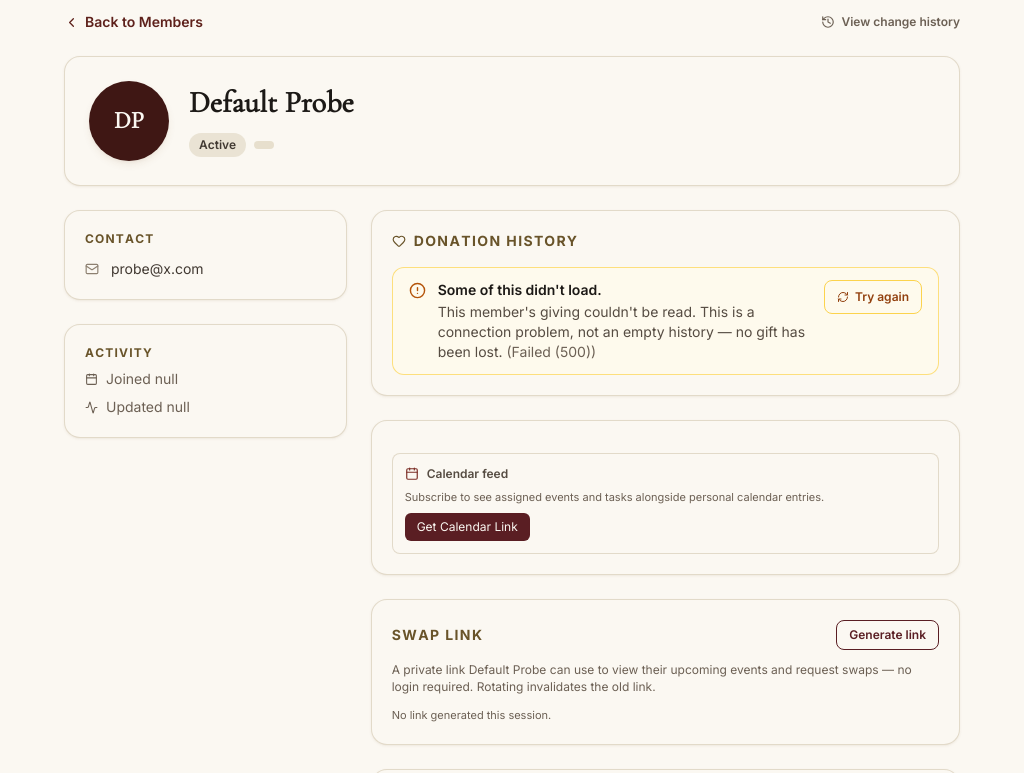
the donations read › recovers the gifts in place on retry
The width and height of the screenshot is (1024, 773).
Expected: the text "Some of this didn't load." is shown, left=438, top=281, right=602, bottom=298
Step 1. Click the button "Try again" → {"x": 873, "y": 297}, box left=824, top=280, right=922, bottom=314
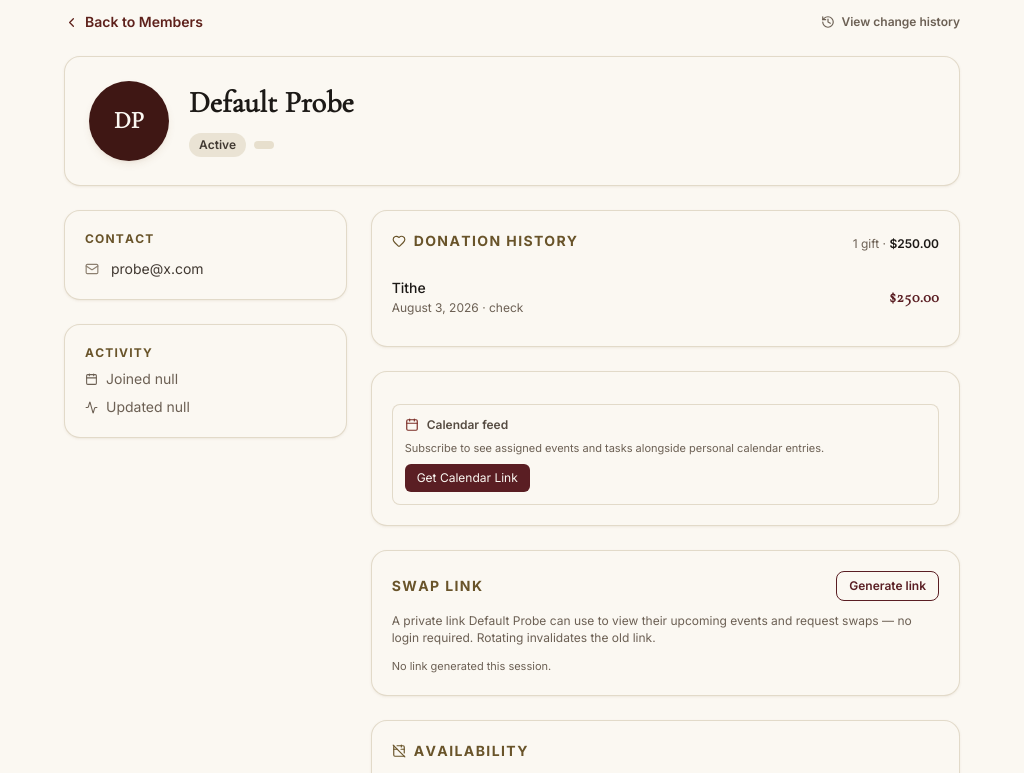
Expected: the text "$250.00" next to "gift" is shown, left=890, top=236, right=939, bottom=251
Expected: the text "Some of this didn't load." is gone
